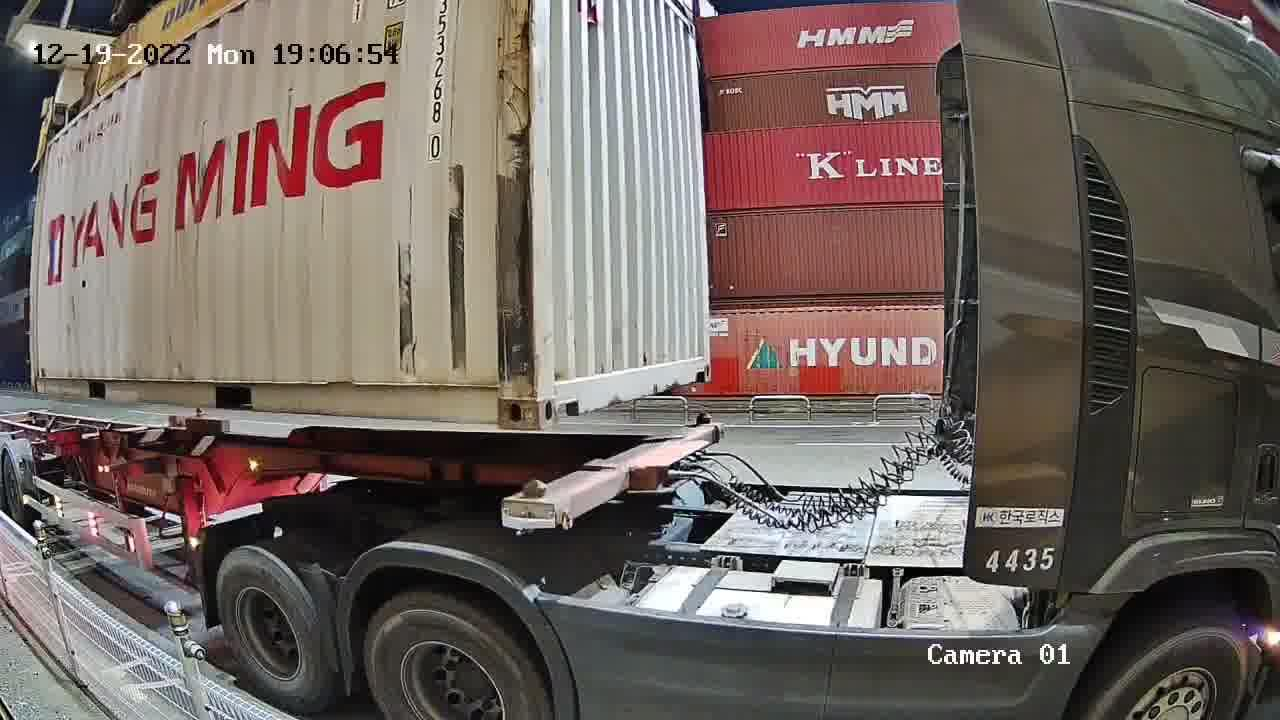Chassis: (504, 423, 721, 524)
Cone: (518, 477, 549, 501), (692, 407, 715, 428)
Hole_L: (538, 351, 584, 427)
Hole_R: (467, 358, 539, 427), (689, 343, 712, 382)
Tire: (366, 593, 548, 719), (218, 549, 322, 697)
